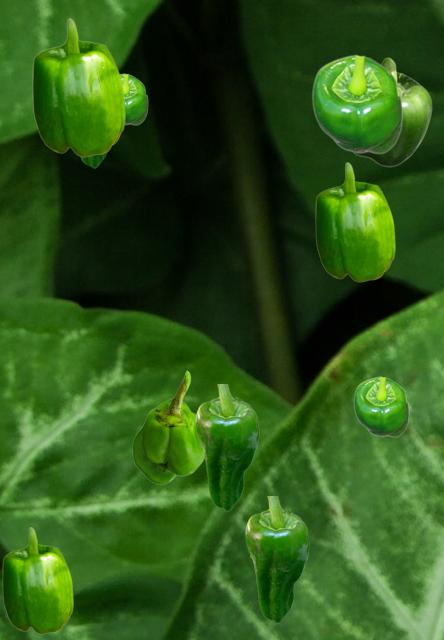bell_pepper: (32, 18, 124, 156), (315, 162, 394, 281), (311, 54, 402, 153), (353, 57, 431, 166), (132, 370, 203, 483), (245, 496, 308, 622), (195, 384, 258, 510), (2, 527, 72, 633), (353, 376, 408, 436), (121, 73, 147, 124), (80, 153, 107, 167)
